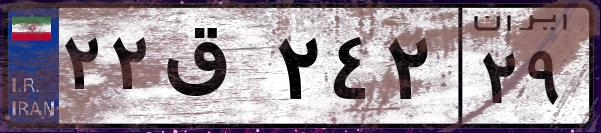2: (270, 28, 330, 110), (385, 28, 445, 110), (57, 26, 110, 100), (475, 38, 525, 113), (110, 28, 158, 98)
4: (330, 28, 385, 110)
9: (525, 38, 570, 115)
ق: (158, 20, 270, 120)
